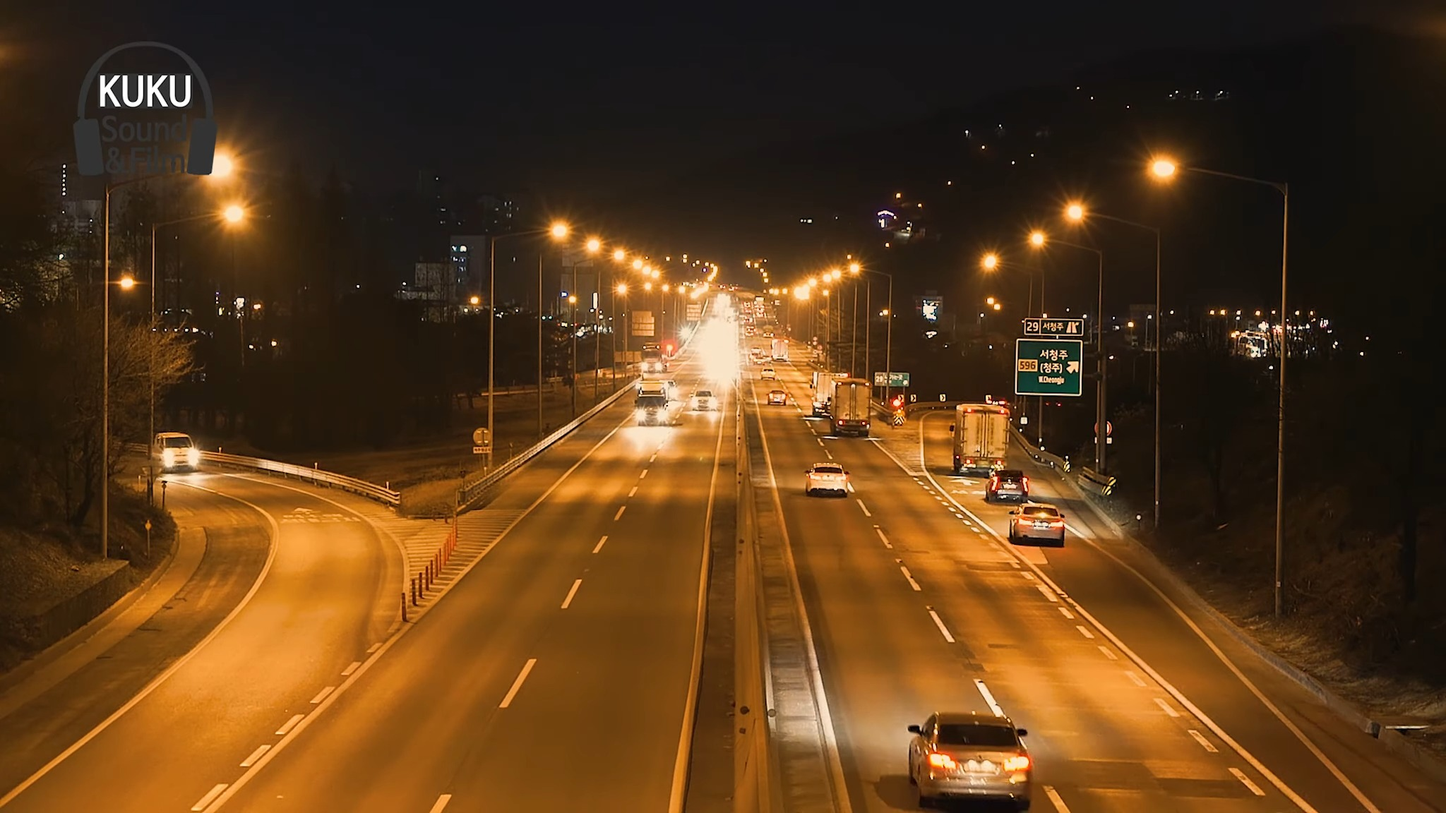car: (909, 704, 1038, 812), (1003, 500, 1069, 545), (802, 463, 850, 497)
truck: (950, 396, 1014, 484)
